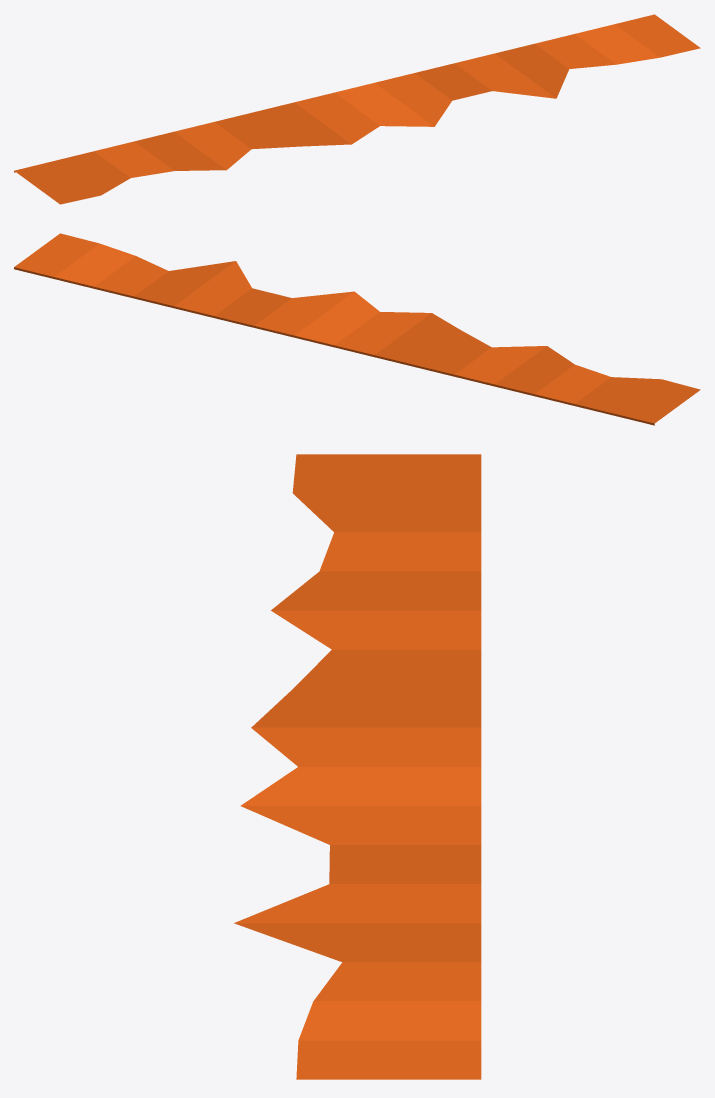
The model's file is edge_lava.obj.
3 renders of one model, top to bottom at view 1: azimuth 30°, elevation 25°; view 2: azimuth 150°, elevation 25°; view 3: azimuth 270°, elevation 25°, orthographic. The views are drawn at different scales.
Bounding box in the file's own units: 3.2 × 0.01 × 0.5358.
